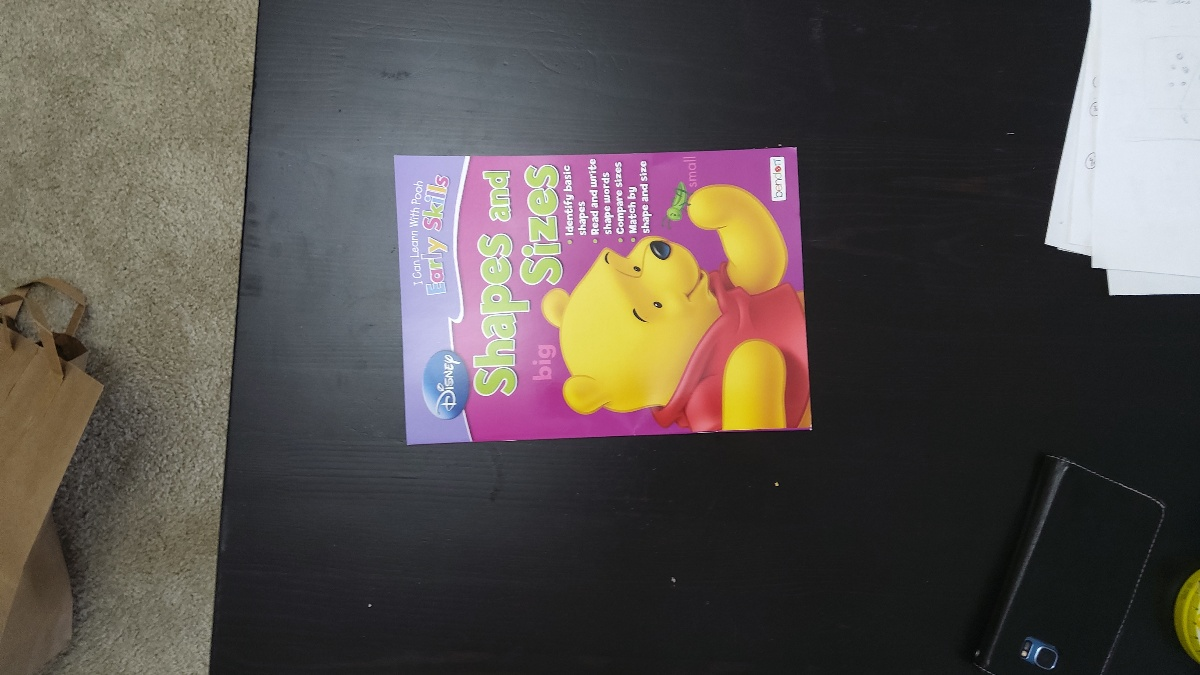book: (399, 156, 804, 430)
